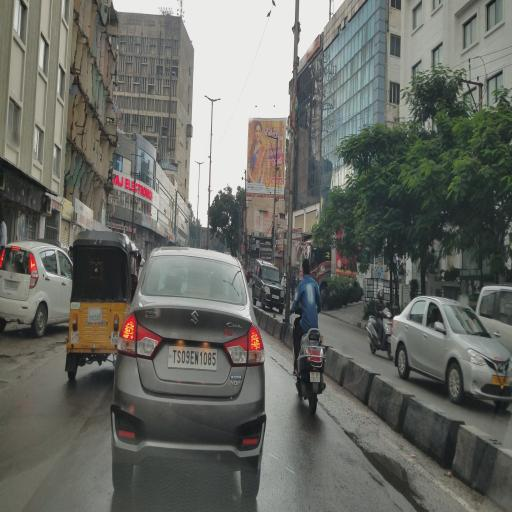street_light_0: (210, 90, 226, 109), (196, 89, 212, 108), (199, 156, 208, 170), (191, 154, 200, 168)
